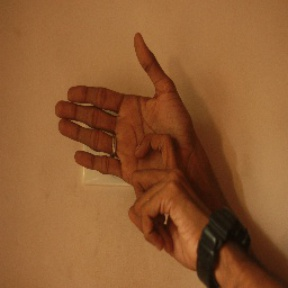R: (56, 29, 209, 233)
